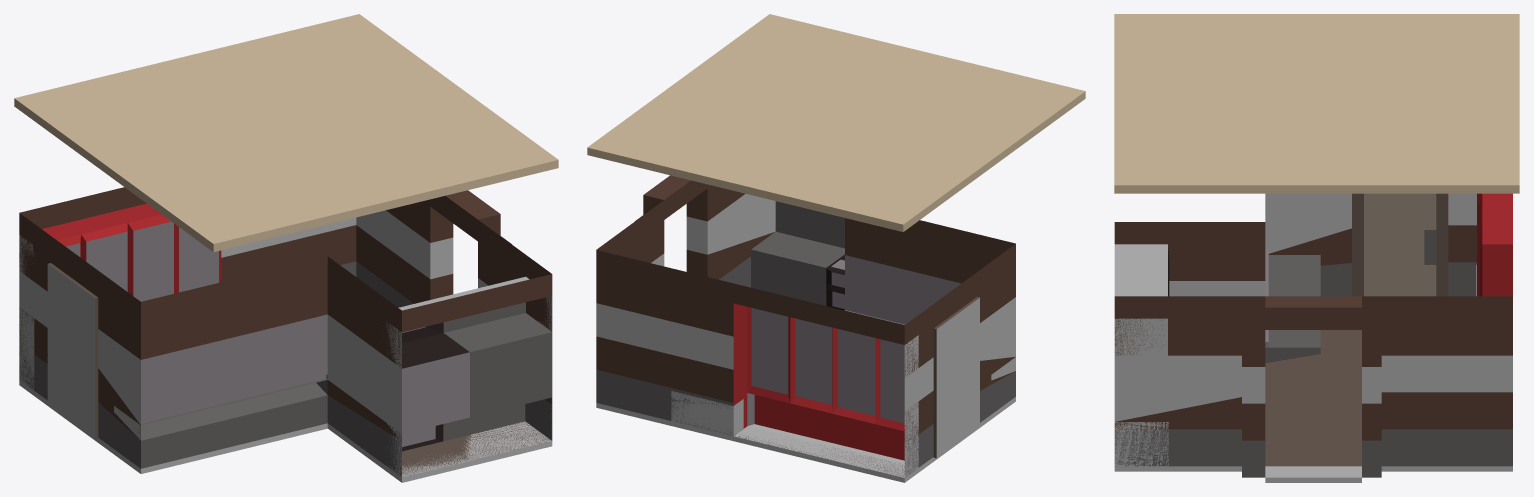
File: WorkersQuartersFIXED.fbx
3 renders of one model, left to right at view 1: azimuth 30°, elevation 25°; view 2: azimuth 150°, elevation 25°; view 3: azimuth 270°, elevation 25°, orthographic. The views are drawn at different scales.
Visible parts, largest first — view 1: workersQuarters, workersQuartersCeiling; view 2: workersQuarters, workersQuartersCeiling; view 3: workersQuarters, workersQuartersCeiling.
Boxes of the visible parts, x1,y1,x2,y2 form: workersQuarters: [19, 187, 552, 482]; workersQuartersCeiling: [14, 14, 558, 252]; workersQuarters: [596, 175, 1015, 482]; workersQuartersCeiling: [587, 14, 1085, 231]; workersQuarters: [1114, 193, 1512, 482]; workersQuartersCeiling: [1114, 14, 1519, 193].
Bounding box in the file's own units: 883 × 663 × 840.
